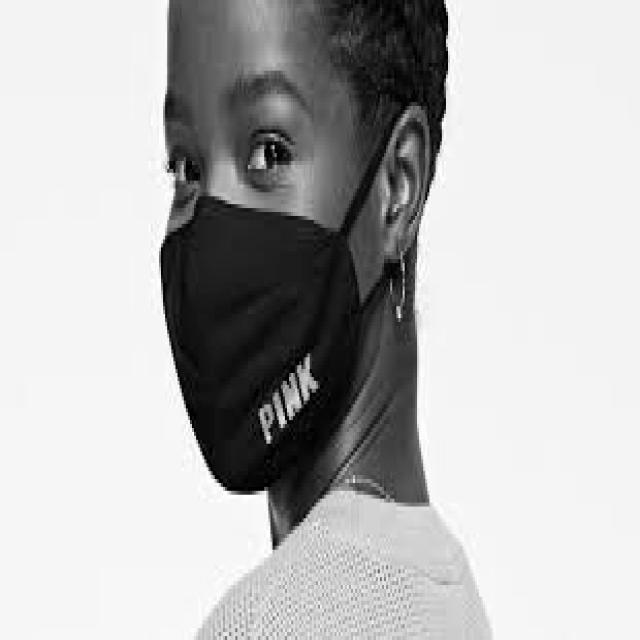without_mask: (157, 114, 394, 495)
